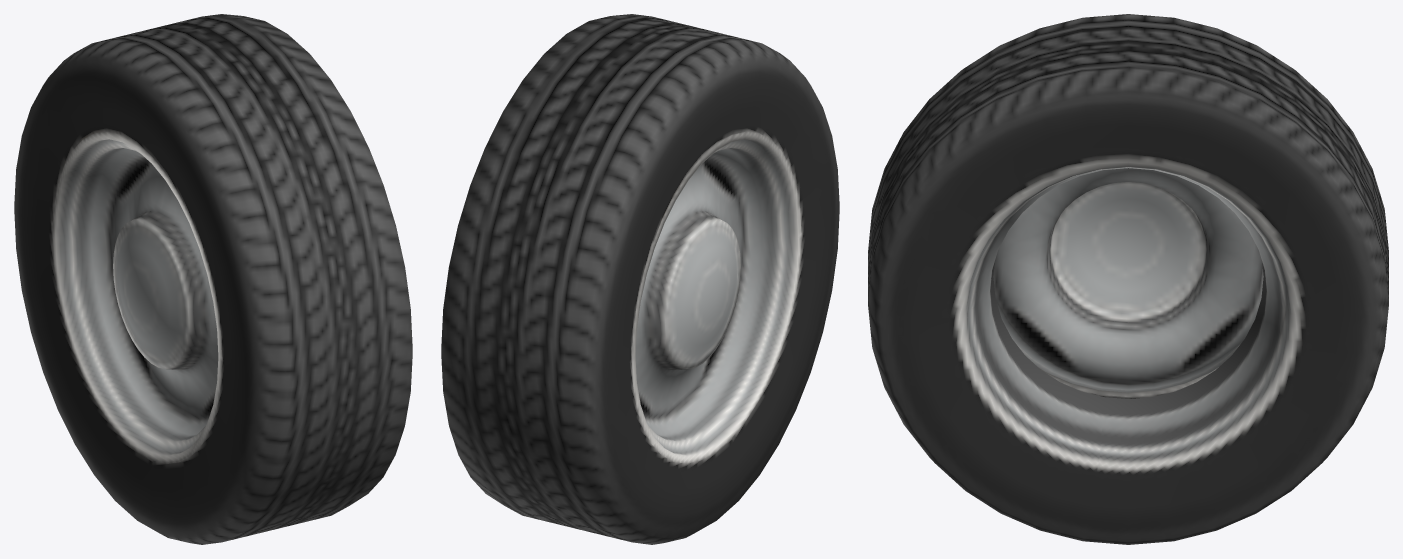
File: wheel.obj
The picture shows the model from 3 angles, left to right: view 1: azimuth 30°, elevation 25°; view 2: azimuth 150°, elevation 25°; view 3: azimuth 270°, elevation 25°; orthographic projection.
Parts seen in each view (by area): view 1: Body.001; view 2: Body.001; view 3: Body.001.
Part boxes in pixels (box(x1,y1,x2,y2)): Body.001: box(14, 14, 412, 544); Body.001: box(441, 14, 839, 544); Body.001: box(868, 14, 1388, 544).
Size of the model in its own units: 24.36 by 69.81 by 69.81.
Materials: 1 (1 with a texture image).
